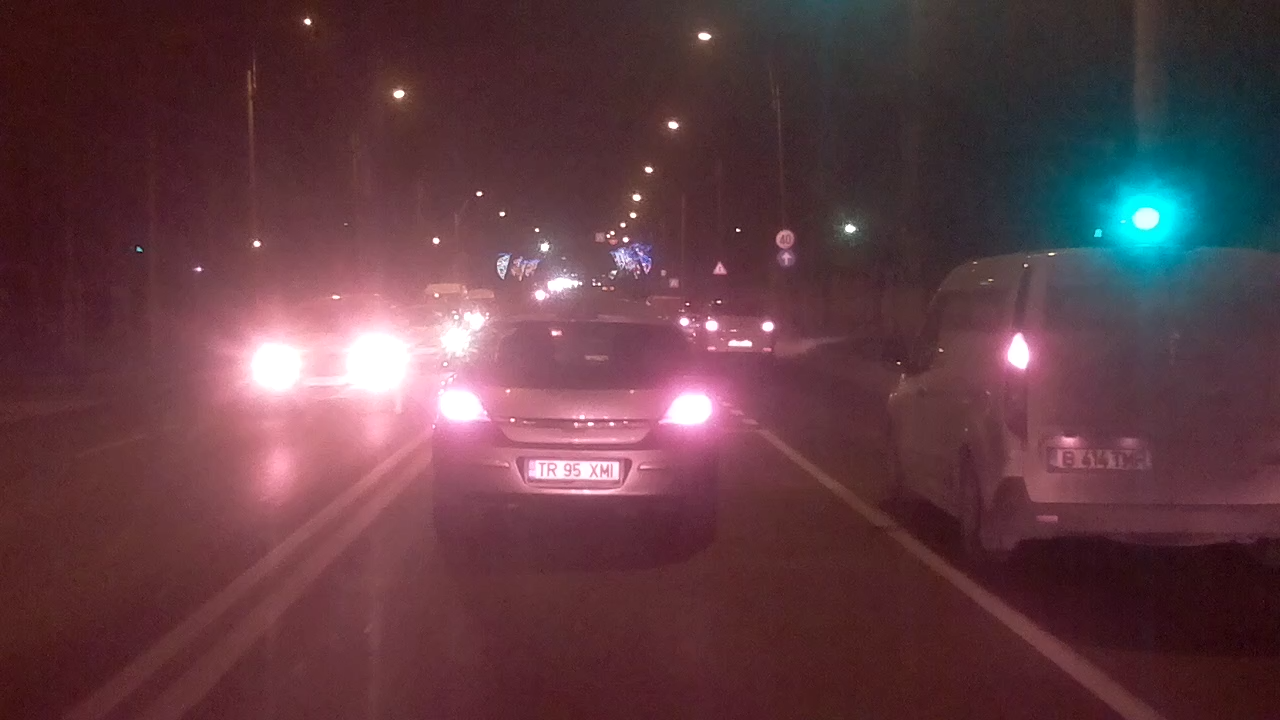license-plate: (524, 454, 625, 483)
